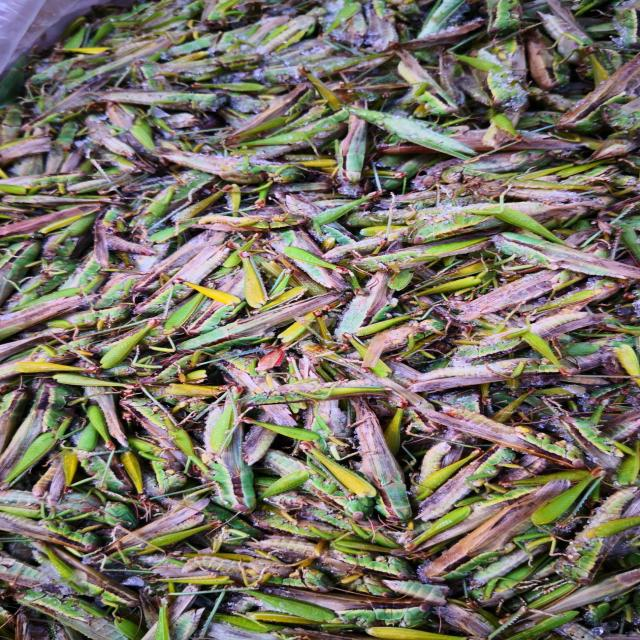ZhaMeng: (407, 476, 568, 591), (154, 289, 359, 369), (64, 495, 215, 576), (424, 404, 591, 469), (184, 384, 266, 515), (344, 407, 424, 528), (346, 99, 488, 167), (478, 229, 638, 289), (142, 140, 326, 191), (405, 200, 593, 247), (1, 379, 88, 477), (128, 244, 235, 320), (552, 481, 630, 585), (111, 393, 205, 475), (341, 232, 497, 280), (5, 582, 134, 637), (385, 48, 471, 122), (187, 552, 330, 593), (3, 505, 111, 558), (98, 81, 240, 120), (547, 409, 631, 474), (182, 204, 318, 239), (3, 253, 82, 313), (409, 356, 552, 388), (253, 377, 408, 406), (333, 114, 375, 200)
